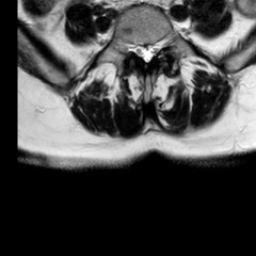CCS_normal: (142, 32, 149, 70)
LFS_normal: (158, 27, 165, 55)
LLS_normal: (149, 32, 158, 63)
RFS_normal: (127, 32, 134, 59)
RLS_normal: (134, 33, 142, 64)
